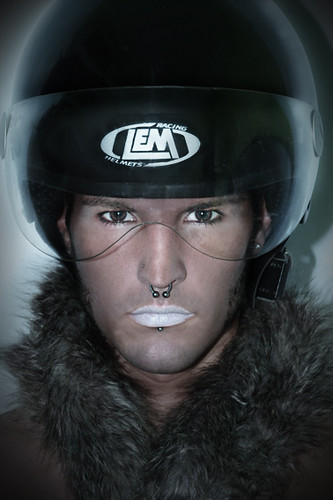helmet: (10, 2, 324, 189)
